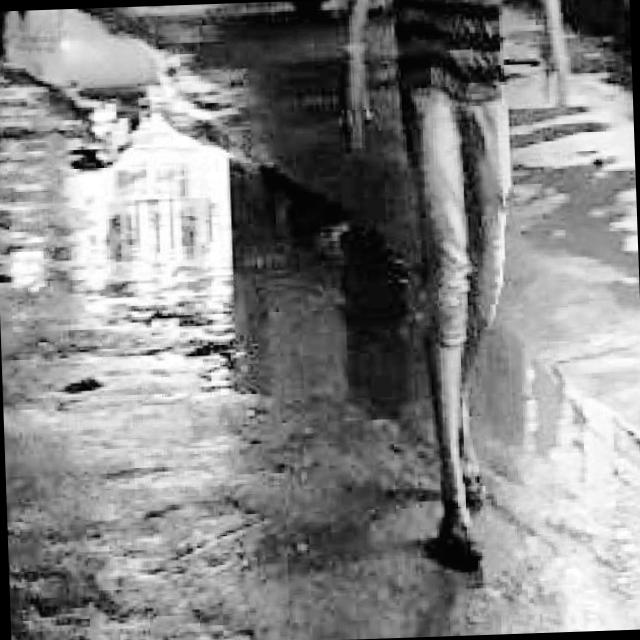Pothole: (0, 93, 430, 454), (0, 4, 183, 121)
